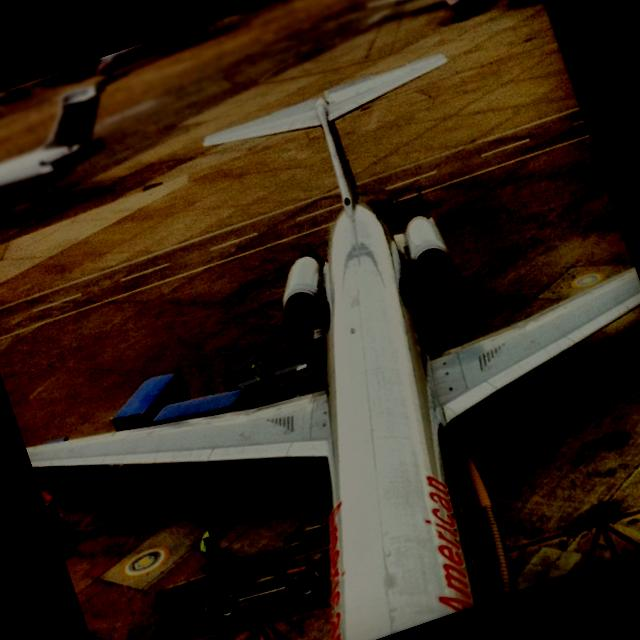Vehicle: (194, 553, 333, 632)
